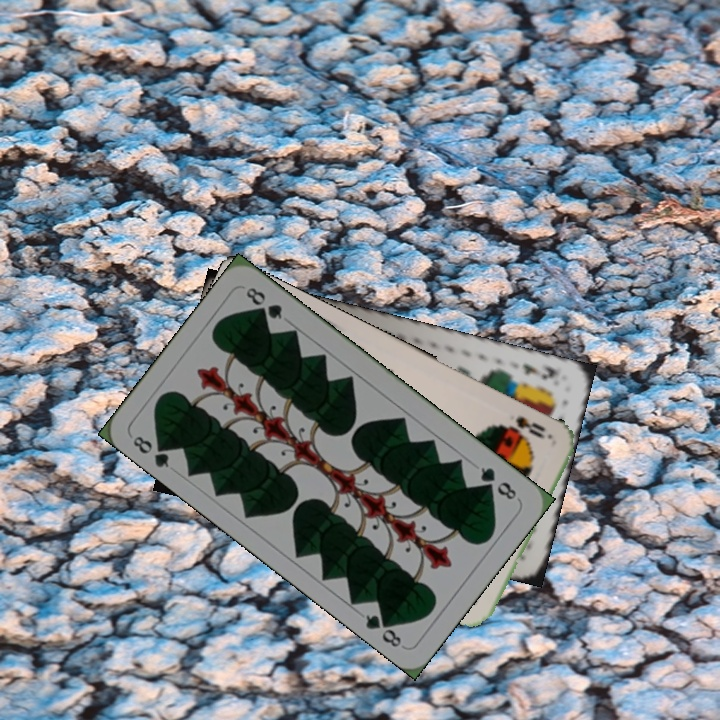EK: (518, 359, 561, 382)
G8: (476, 463, 520, 503), (129, 432, 174, 471)
SO: (511, 412, 548, 442)
